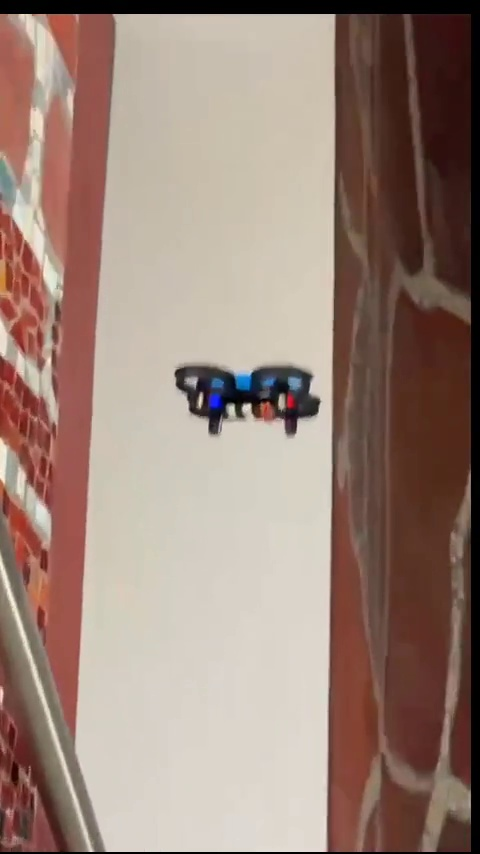drone: (173, 365, 323, 437)
